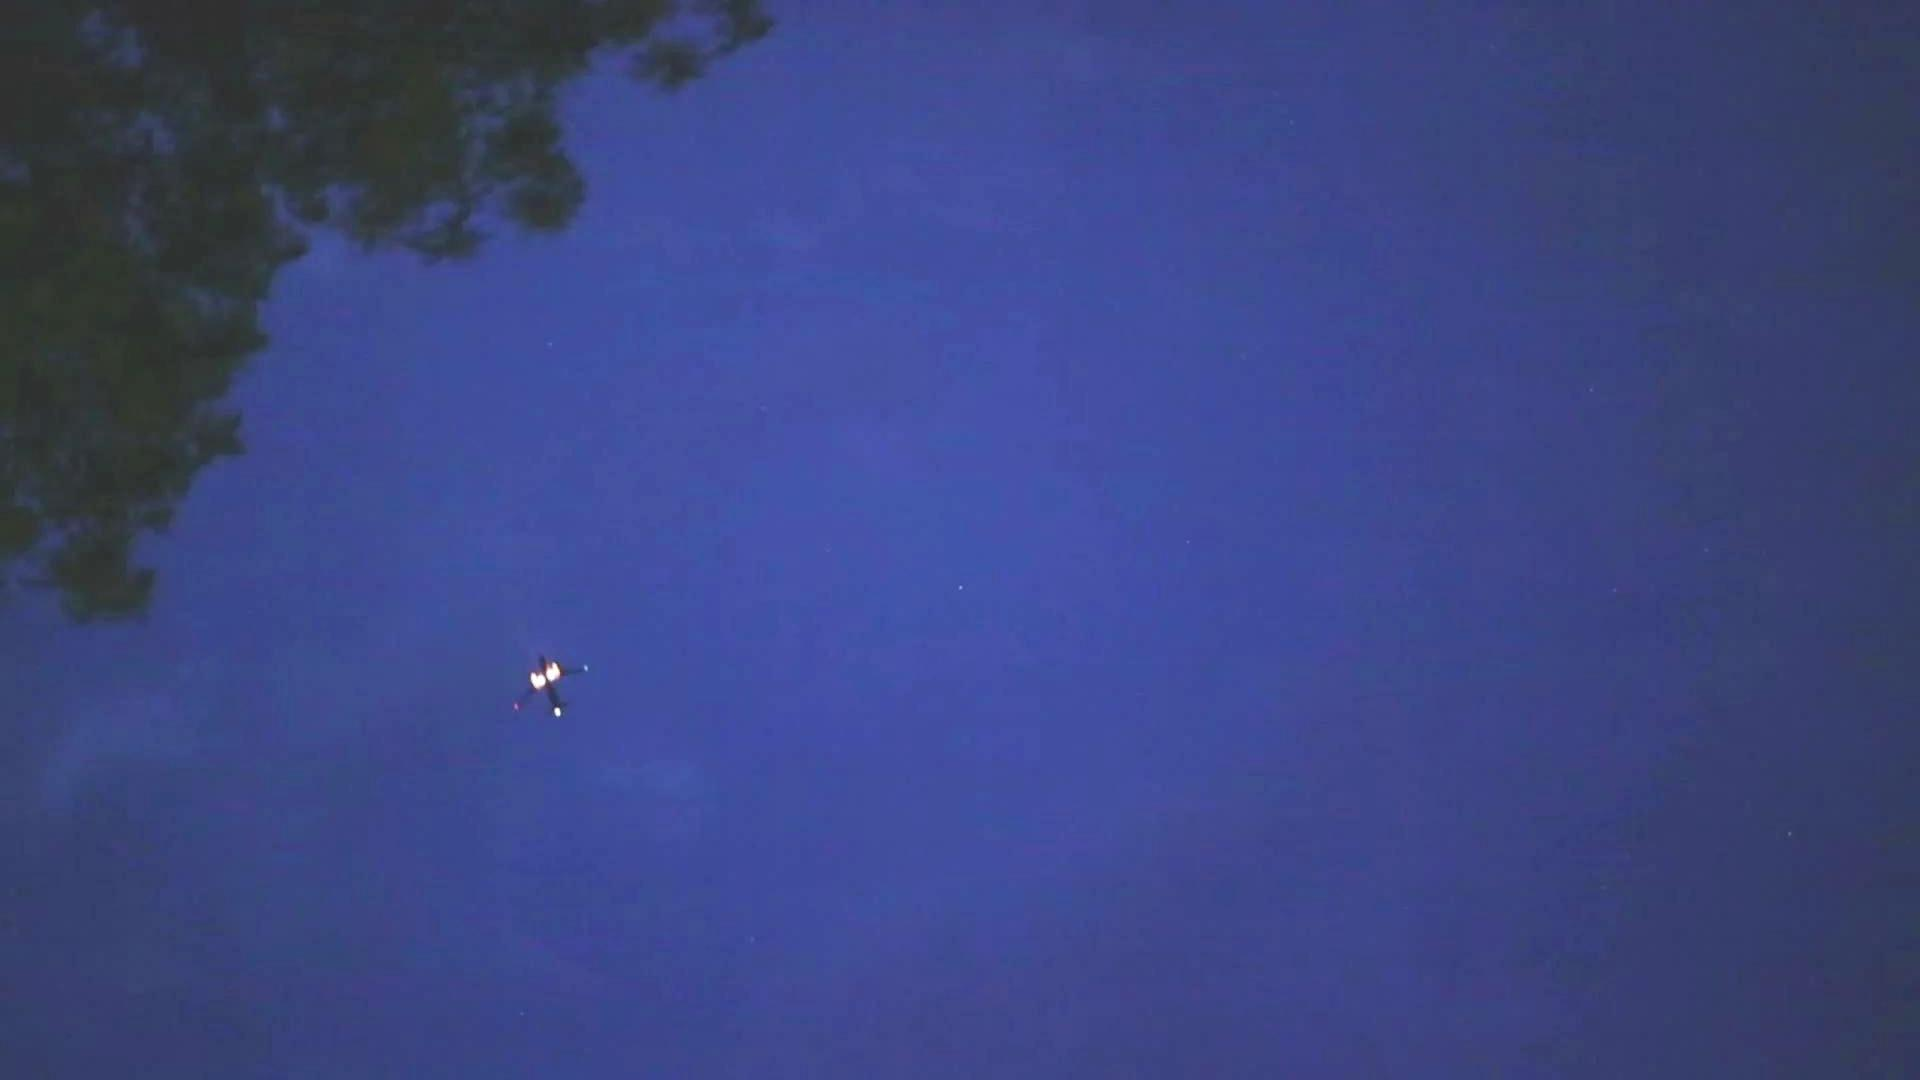Plane: (469, 636, 626, 731)
